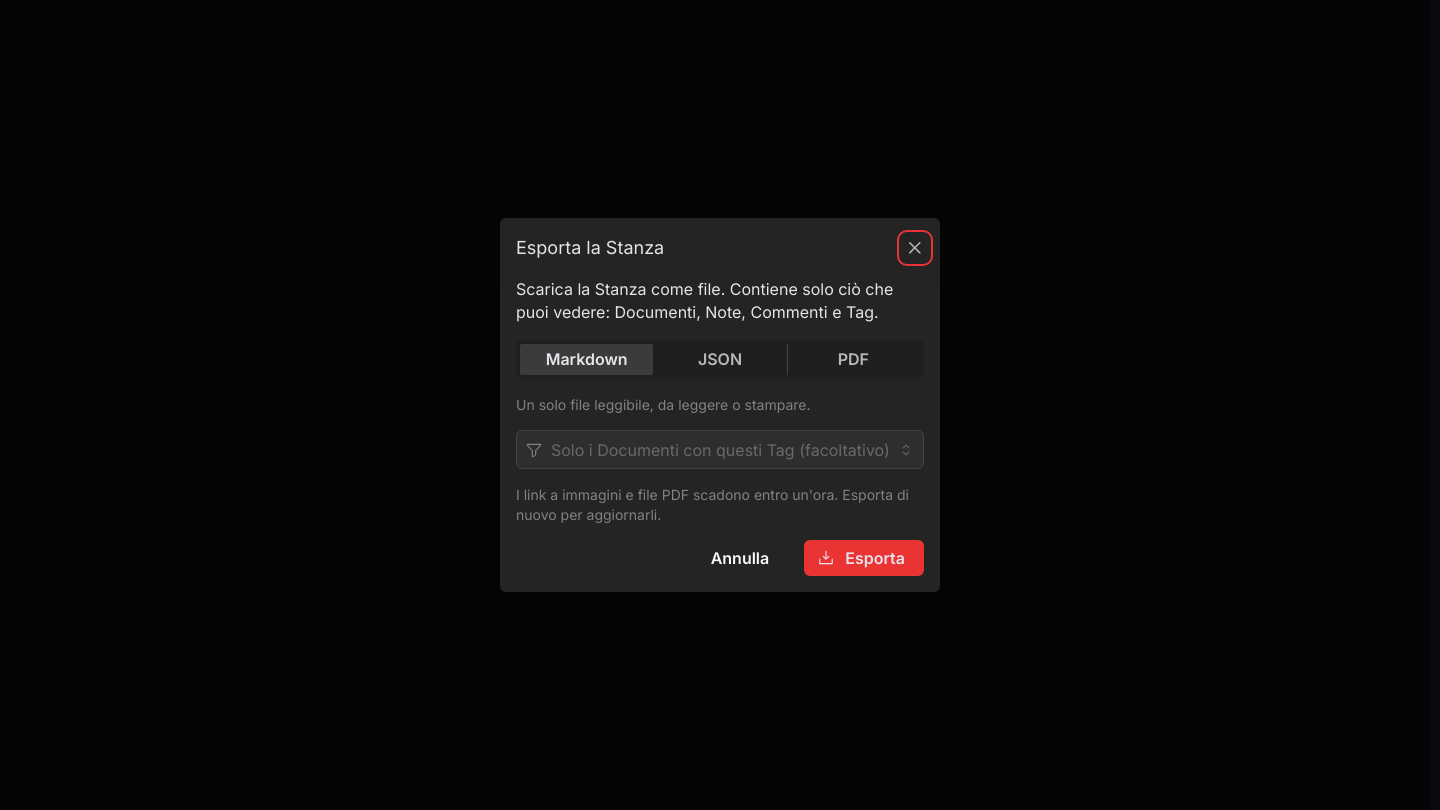
it: ExportRoomModal › offers Markdown first and says what each format is for
This screenshot has width=1440, height=810.
Expected: the dialog "Esporta la Stanza" is shown, [500,218,940,592]
Expected: the radio button labelled "Markdown" is checked, [546,349,628,369]
Click the text "JSON" at (720, 359), box [698,349,742,369]
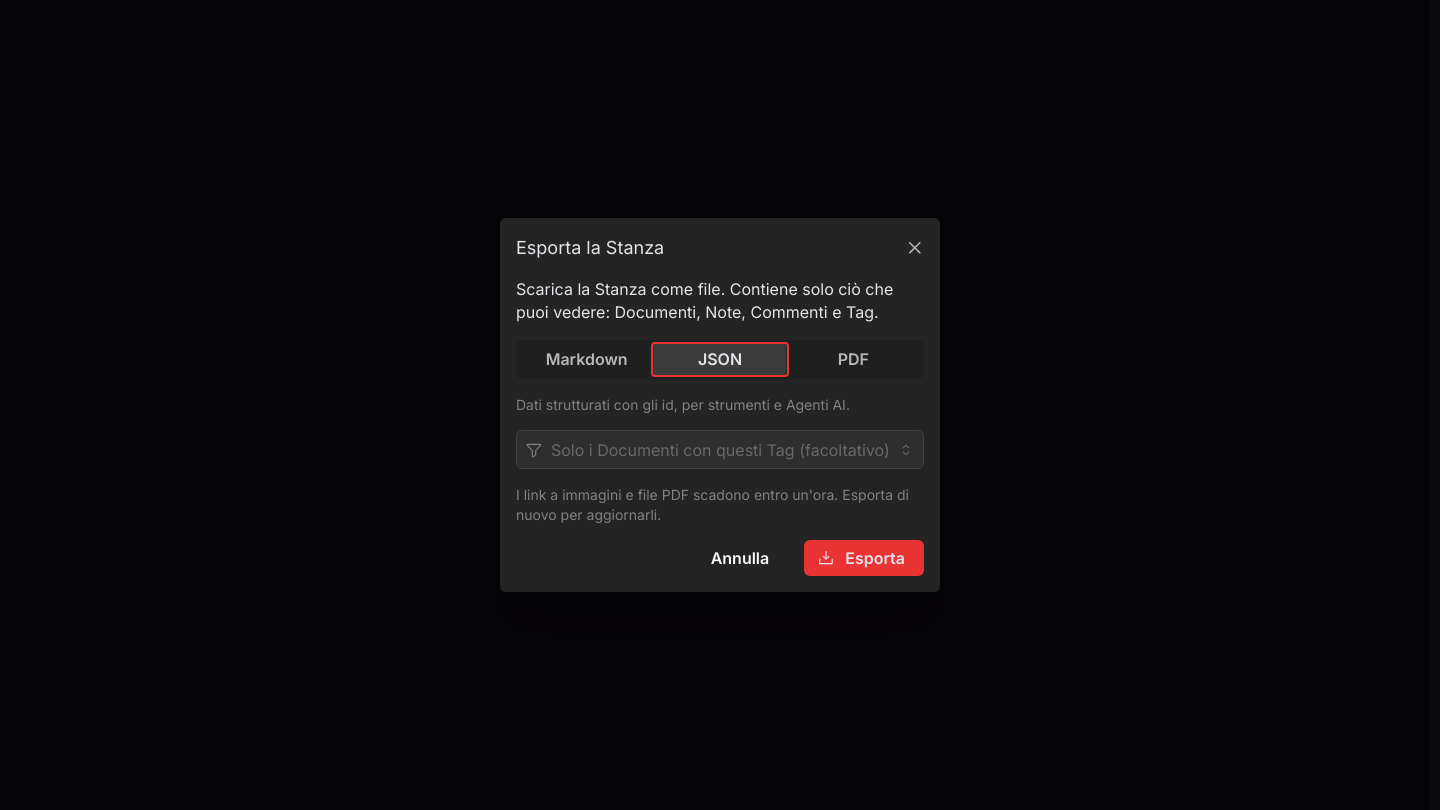
Expected: the radio button labelled "JSON" is checked, [698,349,742,369]
Expected: the text "Dati strutturati con gli id, per strumenti e Agenti AI." is shown, [516,396,850,413]
